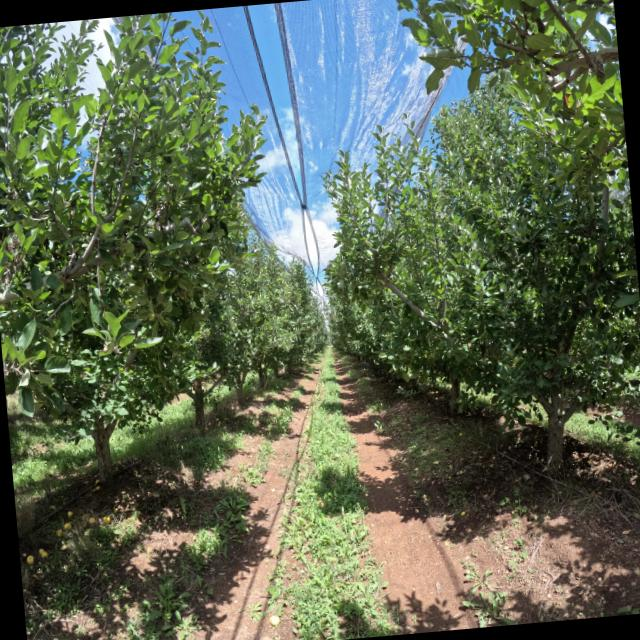-FireBlight-: (3, 233, 25, 292)
